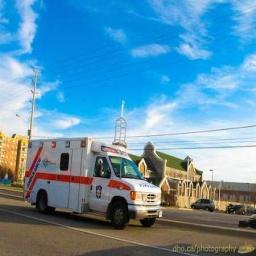Ambulance: (24, 138, 161, 228)
